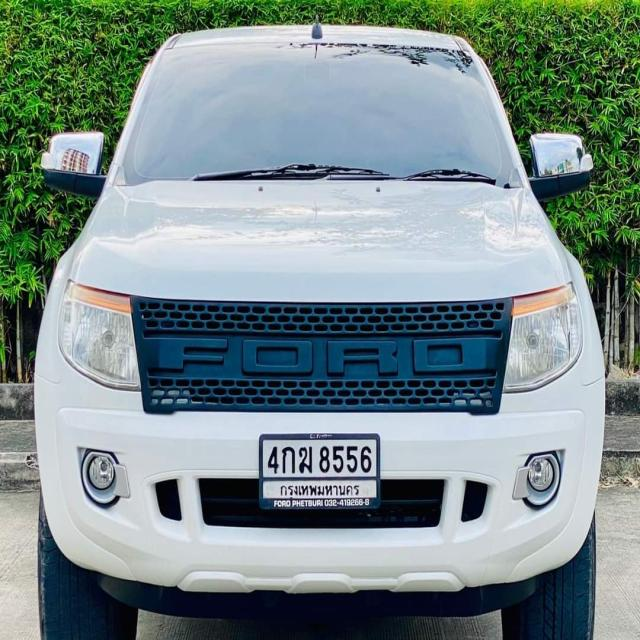license_plate: (258, 432, 381, 512)
